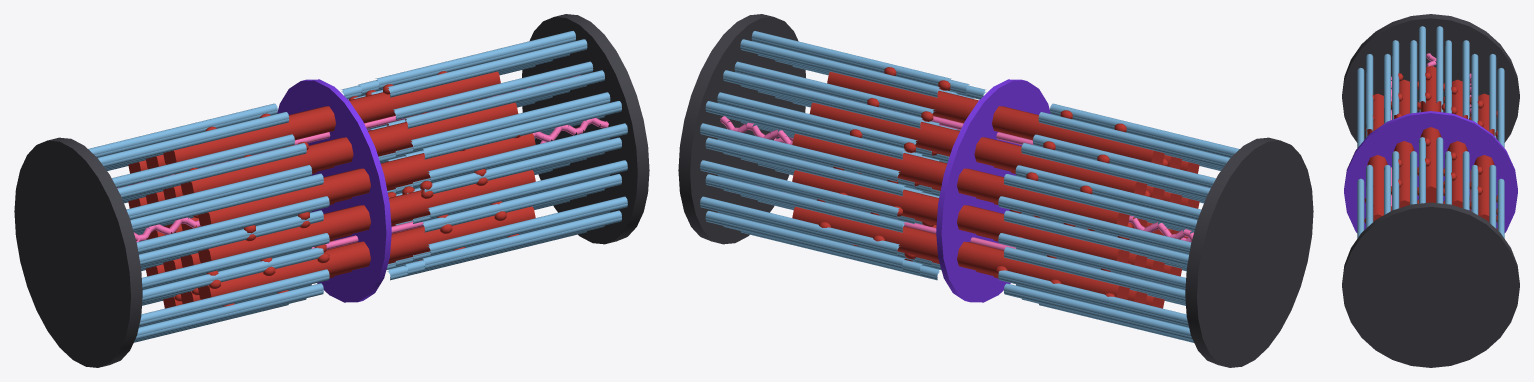
File: sarcomere.glb
3 views of the same model, side by side, from view 1: azimuth 30°, elevation 25°; view 2: azimuth 150°, elevation 25°; view 3: azimuth 270°, elevation 25° (orthographic). The views are drawn at different scales.
Visible parts, largest first — view 1: Thin filaments.002, Thick filaments.001, Thin filaments.001, Z discs.001, Z discs.002, M lines.001, Titin; view 2: Thin filaments.002, Thick filaments.001, Thin filaments.001, Z discs.001, Z discs.002, M lines.001, Titin; view 3: Z discs.002, Z discs.001, Thin filaments.001, Thick filaments.001, M lines.001, Thin filaments.002, Titin.
Boxes of the visible parts, <box> form: Thin filaments.002: <box>341,31,627,280</box>; Thick filaments.001: <box>128,71,535,308</box>; Thin filaments.001: <box>88,103,329,342</box>; Z discs.001: <box>14,137,142,367</box>; Z discs.002: <box>522,14,649,244</box>; M lines.001: <box>277,79,391,302</box>; Titin: <box>117,75,608,249</box>; Thin filaments.002: <box>700,31,986,280</box>; Thick filaments.001: <box>792,67,1199,308</box>; Thin filaments.001: <box>998,103,1239,342</box>; Z discs.001: <box>1185,137,1313,367</box>; Z discs.002: <box>678,14,805,244</box>; M lines.001: <box>936,79,1050,302</box>; Titin: <box>720,116,1193,250</box>; Z discs.002: <box>1342,202,1519,367</box>; Z discs.001: <box>1342,14,1519,142</box>; Thin filaments.001: <box>1357,26,1504,147</box>; Thick filaments.001: <box>1364,65,1497,229</box>; M lines.001: <box>1344,111,1517,232</box>; Thin filaments.002: <box>1357,137,1504,238</box>; Titin: <box>1391,53,1471,210</box>.
Size of the model in its own units: 5.75 by 2.24 by 2.24.
